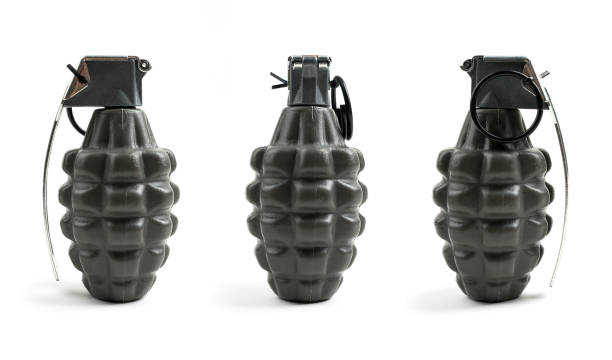e1: (430, 55, 571, 303), (43, 55, 179, 304), (240, 55, 368, 304)
